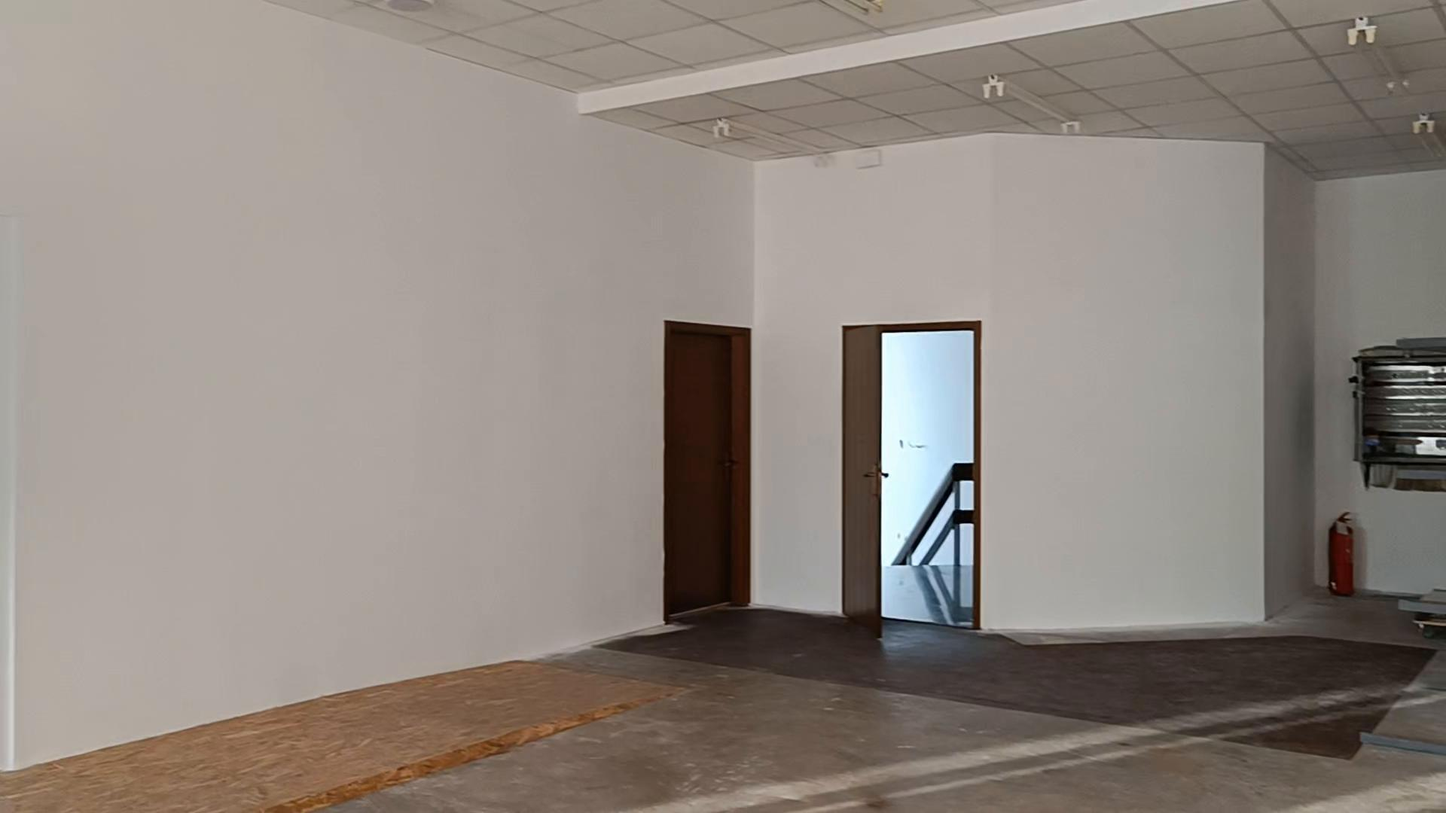ceiling: (591, 0, 1445, 178), (270, 0, 1063, 93)
floor: (0, 598, 1445, 812)
wall: (0, 0, 1445, 766), (752, 136, 1264, 629), (1361, 497, 1438, 595)
